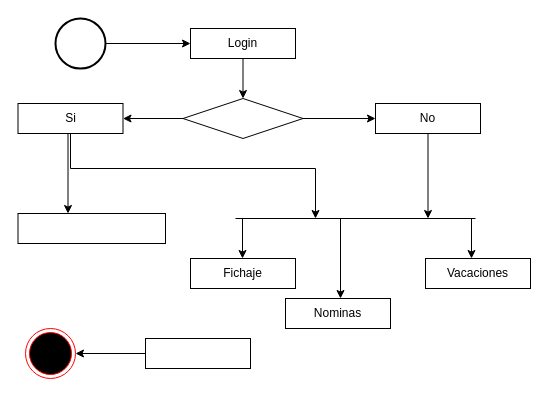
This 548x396 diagram has some shape labels left out. Each missing label, with the centre of its shape:
Administrador ?: [242,118]
Gestionar Usuarios: [91,228]
Logout: [197,353]
